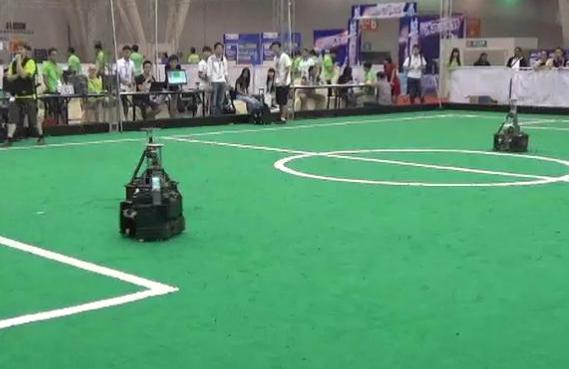robot: (110, 118, 194, 244), (487, 93, 536, 155)
